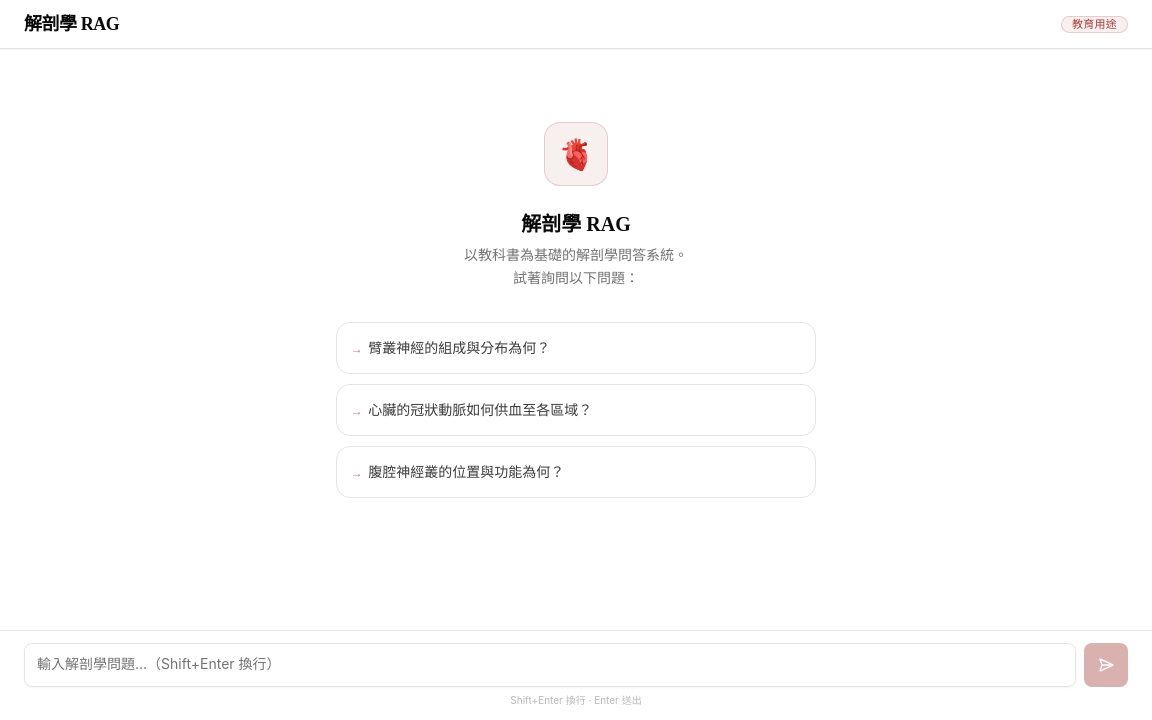
Test case: ChatPanel integration › renders answer text, citation panel, and watermark after a successful stream
Type a question and submit
Type "肱二頭肌起點" into the text box at (550, 665), box [24,643,1076,687]
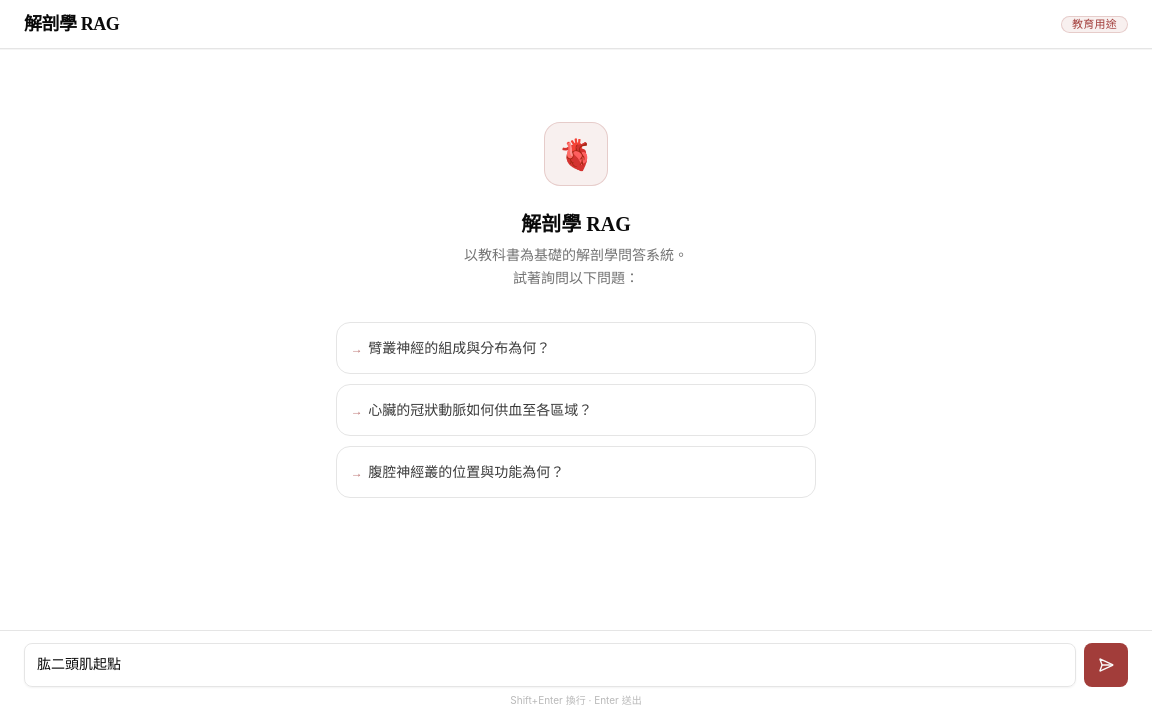
Click the button named "送出" at (1106, 665), box [1084,643,1128,687]
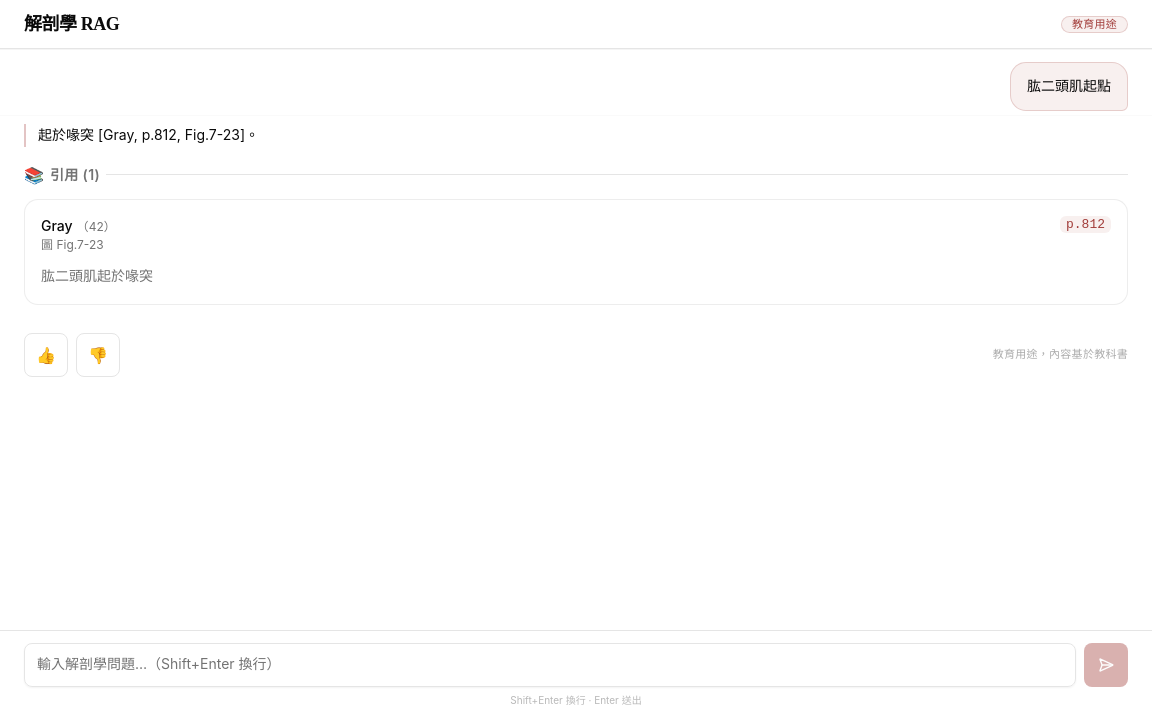
Expected: the text "肱二頭肌起於喙突" is shown, [41,267,153,284]
Expected: the heading "引用 (1)" is shown, [50,164,100,184]
Expected: the text "教育用途，內容基於教科書" is shown, [993,346,1128,364]
